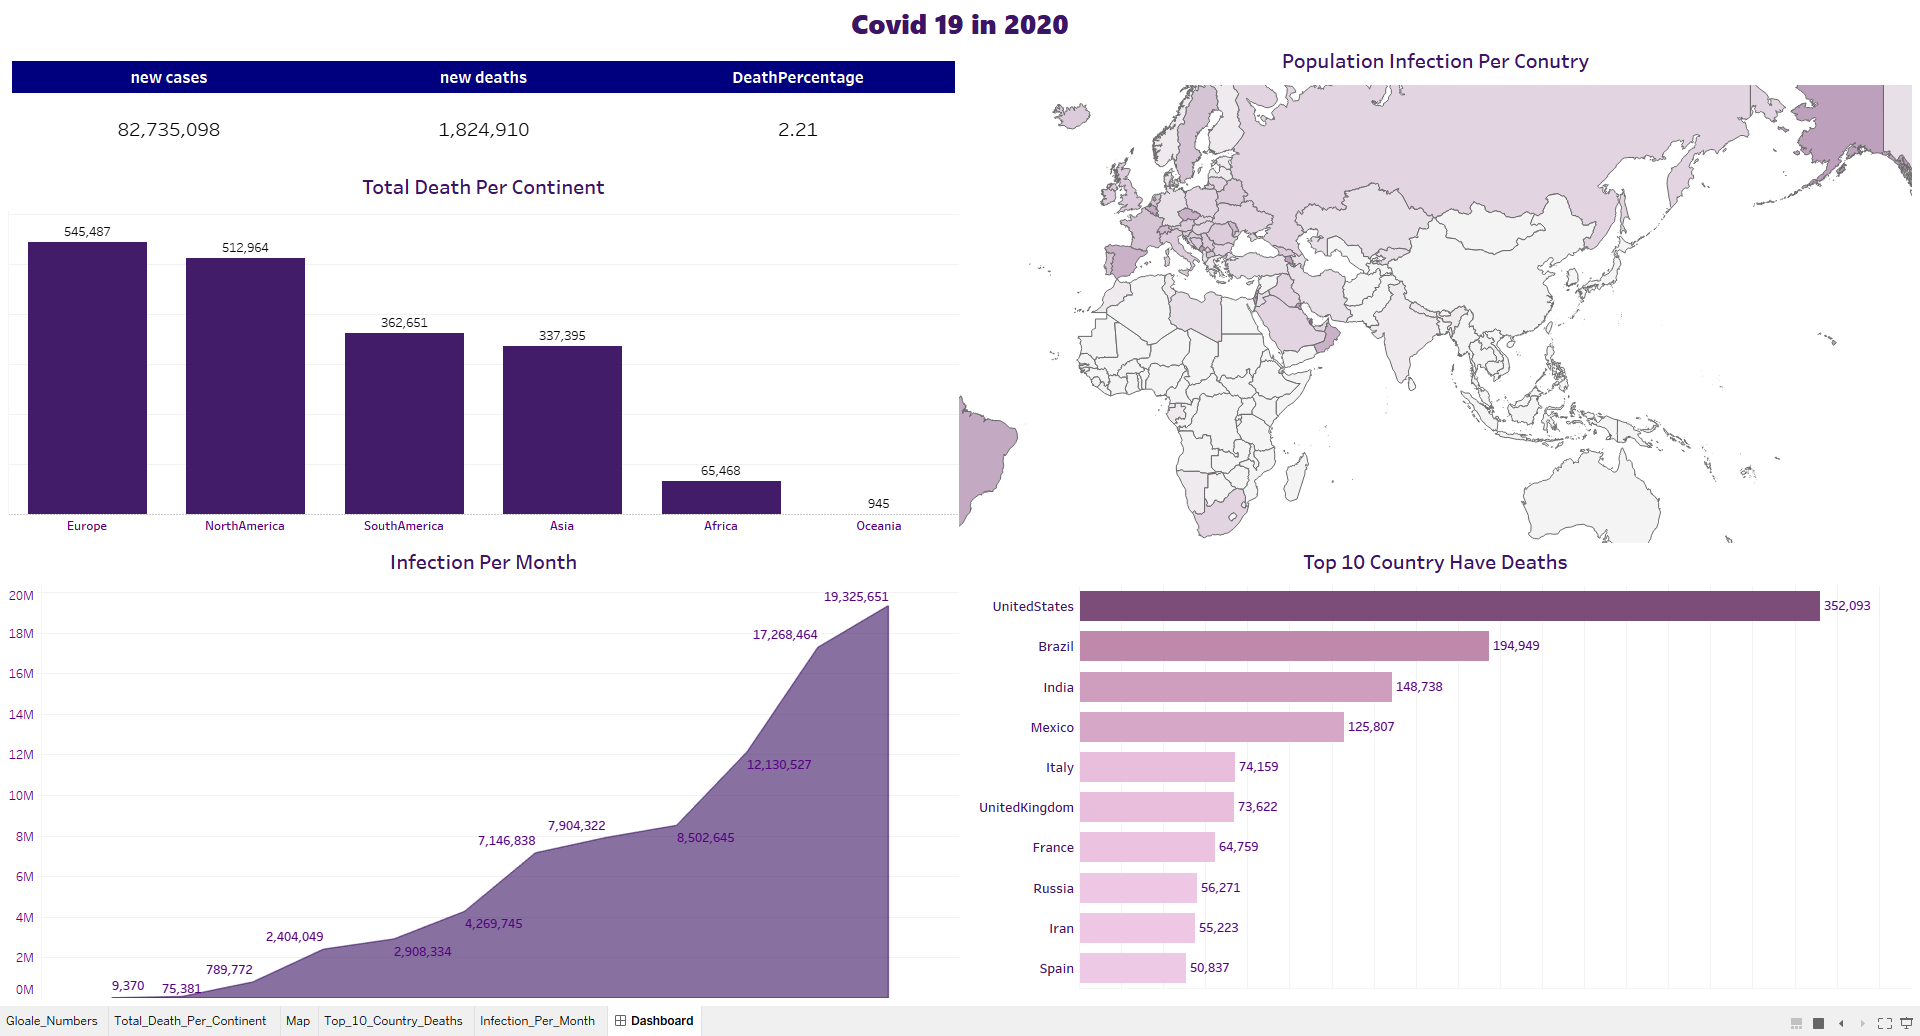

This screenshot's page, from the dashboard's own definition file:
{"tool":"tableau","page":{"name":"Dashboard","canvas":[1000,1000],"units":"permille","ordinal":0},"visuals":[{"type":"title","box":[4.7,9.3,990.6,44]},{"type":"worksheet","title":"Gloale_Numbers","mark":"Automatic","box":[4.7,53.2,495.1,123.6]},{"type":"worksheet","title":"Map","mark":"Automatic","box":[499.7,53.2,495.6,491.8]},{"type":"worksheet","title":"Total_Death_Per_Continent","mark":"Automatic","rows":["Sum of new_deaths"],"cols":["Row Labels"],"box":[4.7,176.8,495.1,368.2]},{"type":"worksheet","title":"Infection_Per_Month","mark":"Area","rows":["new_cases"],"cols":["Time"],"box":[4.7,545,495.1,445.7]},{"type":"worksheet","title":"Top_10_Country_Deaths","mark":"Automatic","rows":["Row Labels"],"cols":["Sum of new_deaths"],"box":[499.7,545,495.6,445.7]}]}

Visuals, with their boxes on the dashboard's canvas, which has no fixed pixel size, in thousandths of its width and height (x1, y1, x2, y2). These are canvas units, not pixel positions in the 1920x1036 screenshot, which may show the page scaled, cropped or inside an application window:
title: (x1=5, y1=9, x2=995, y2=53)
"Gloale_Numbers" worksheet: (x1=5, y1=53, x2=500, y2=177)
"Map" worksheet: (x1=500, y1=53, x2=995, y2=545)
"Total_Death_Per_Continent" worksheet: (x1=5, y1=177, x2=500, y2=545)
"Infection_Per_Month" worksheet (Area marks): (x1=5, y1=545, x2=500, y2=991)
"Top_10_Country_Deaths" worksheet: (x1=500, y1=545, x2=995, y2=991)
